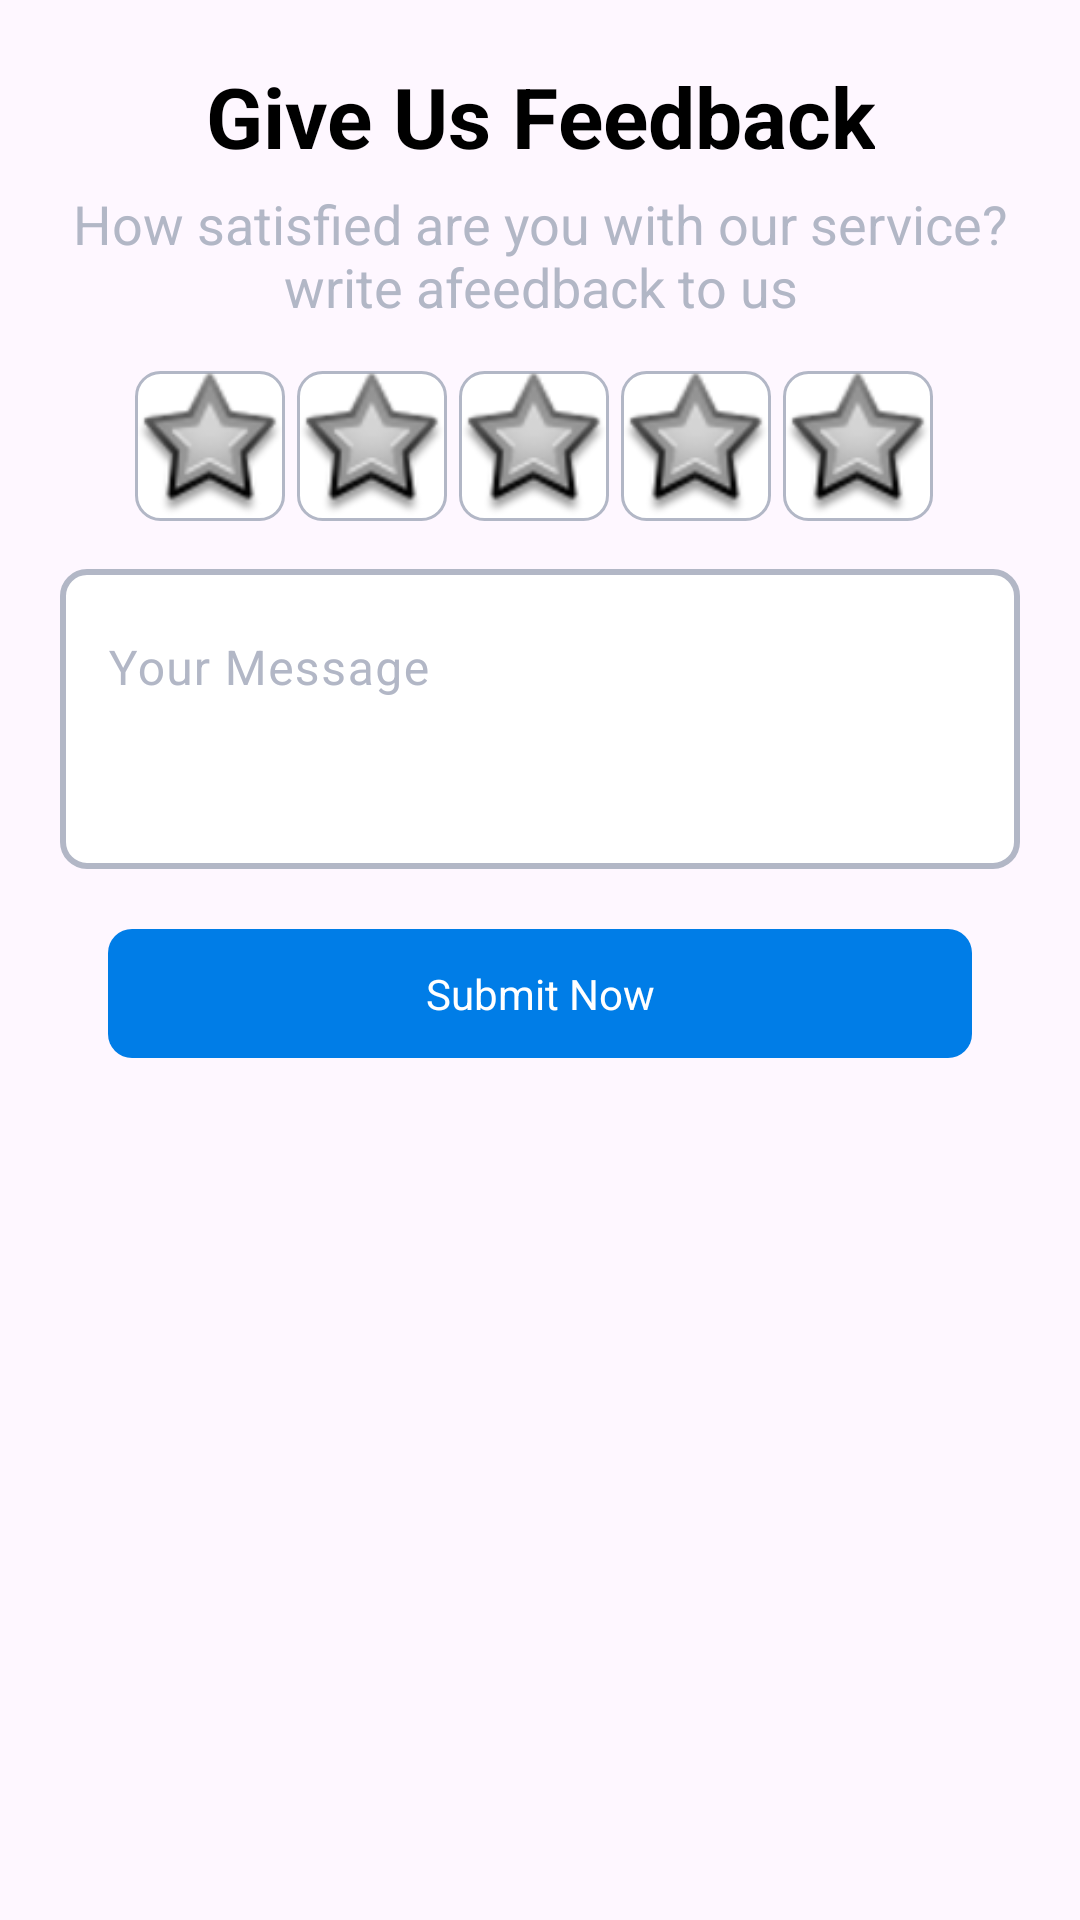

Named icons in this screenshot (1080×1920) and their centers, (x,y):
star empty: (210,446), (372,446), (534,446), (696,446), (858,446)
